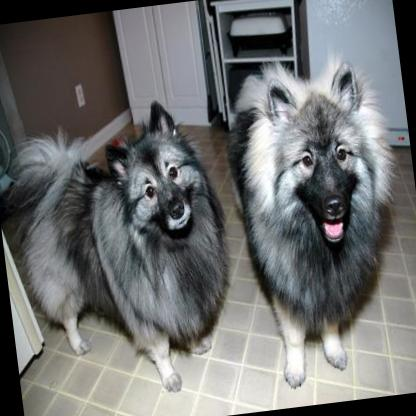keeshond: (0, 92, 245, 408), (218, 47, 416, 391)
